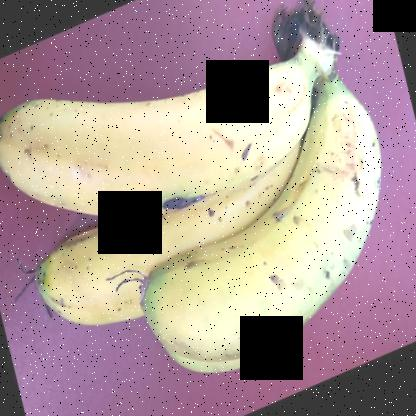ripe: (161, 82, 380, 400), (0, 52, 303, 202), (25, 201, 188, 341)
